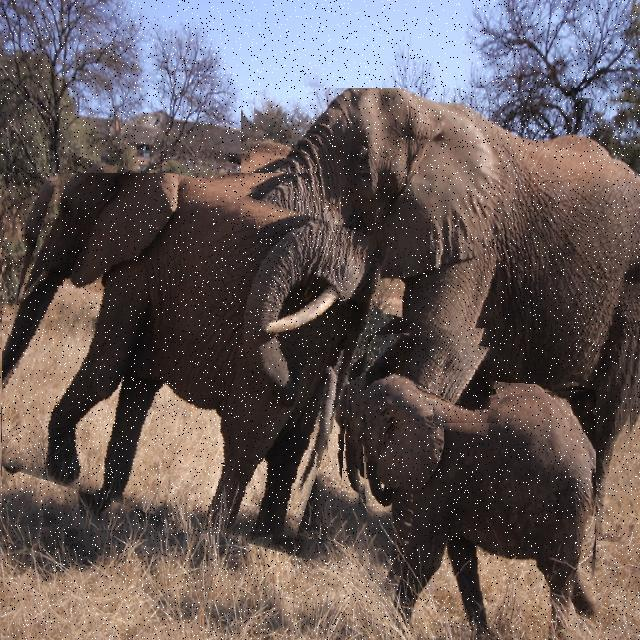elephant: (241, 88, 640, 537), (2, 173, 378, 541), (360, 389, 596, 640), (349, 327, 498, 423)
